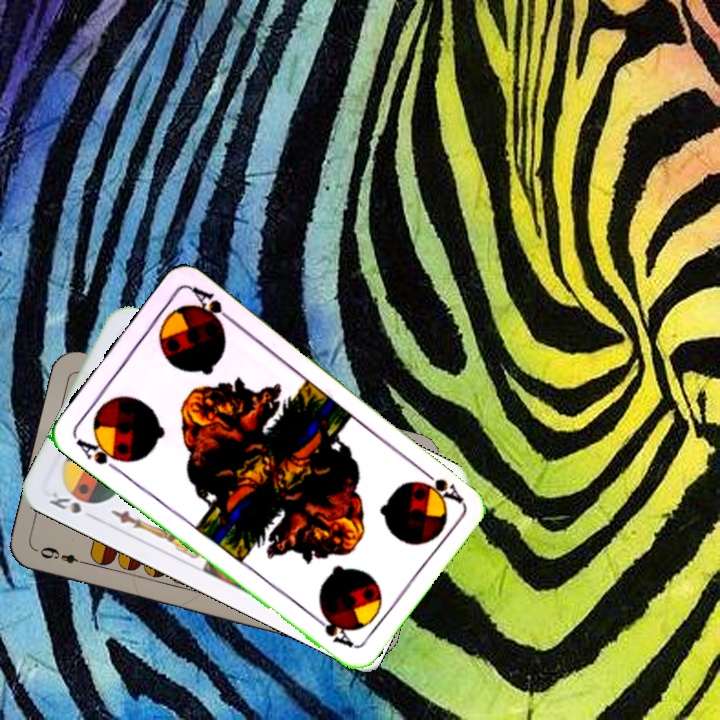E9: (33, 542, 91, 568)
SA: (71, 433, 128, 475), (415, 463, 466, 507)
SK: (45, 487, 84, 516)
